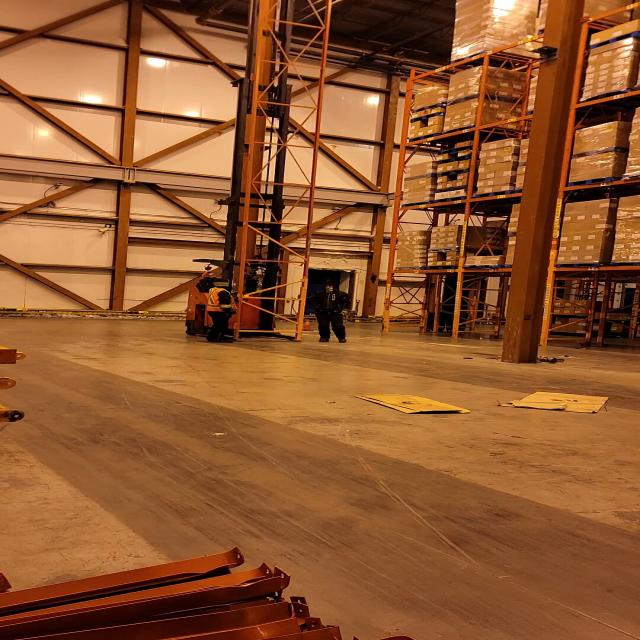forklift: (185, 197, 302, 345)
human: (308, 278, 364, 347), (195, 274, 248, 344), (192, 270, 232, 292)
objectofinterest: (237, 14, 312, 348), (494, 386, 612, 414), (349, 391, 479, 416)
